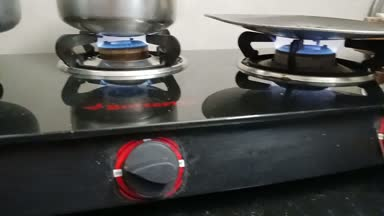flame_gas_on: (85, 31, 186, 203), (267, 34, 360, 81)
